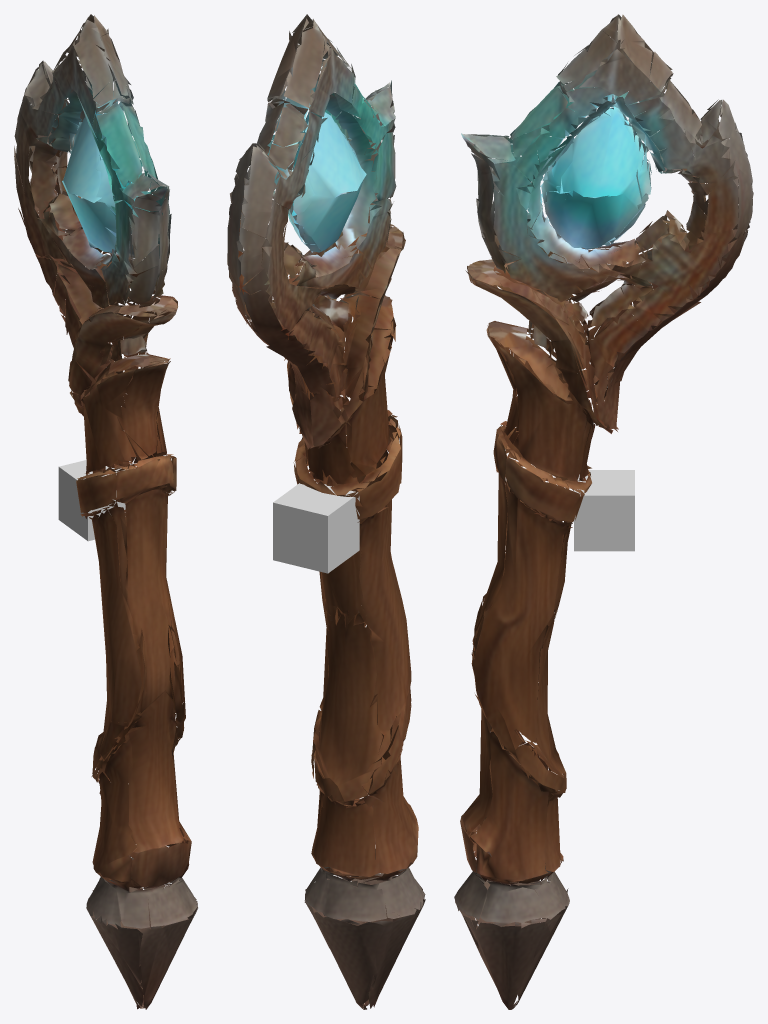
Rendered from staff.fbx.
3 views of the same model, side by side, from view 1: azimuth 30°, elevation 25°; view 2: azimuth 150°, elevation 25°; view 3: azimuth 270°, elevation 25° (orthographic). The views are drawn at different scales.
Parts seen in each view (by area): view 1: MageStaff, Handle; view 2: MageStaff, Handle; view 3: MageStaff, Handle.
Part boxes in pixels (x1,y1,x2,y2): MageStaff: (14,14,197,1009); Handle: (58,460,127,541); MageStaff: (227,14,425,1009); Handle: (273,482,359,573); MageStaff: (454,14,753,1009); Handle: (574,470,634,551).
Bounding box in the file's own units: 19.74 × 180 × 49.02.
